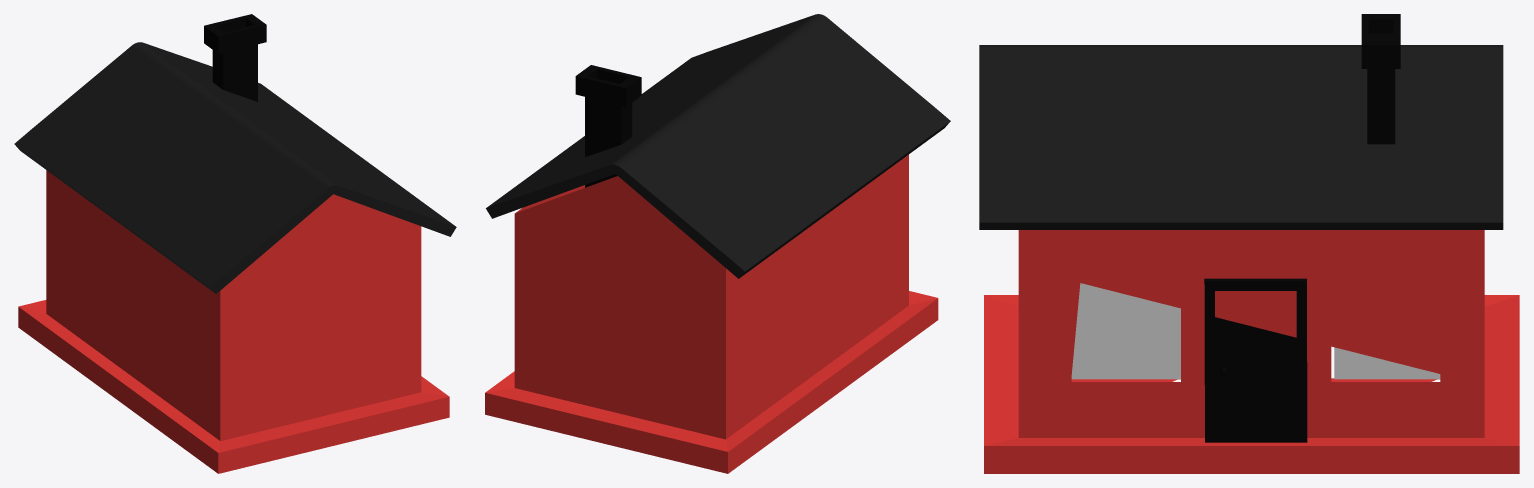
The model's file is Blender_1.fbx.
The picture shows the model from 3 angles, left to right: view 1: azimuth 30°, elevation 25°; view 2: azimuth 150°, elevation 25°; view 3: azimuth 270°, elevation 25°; orthographic projection. The views are drawn at different scales.
Visible parts, largest first — view 1: Cube, Roof, Chimney; view 2: Cube, Roof, Chimney; view 3: Cube, Roof, Door, Window.001, Chimney, Window.
Boxes of the visible parts, x1,y1,x2,y2 form: Cube: [18, 170, 449, 473]; Roof: [14, 42, 456, 293]; Chimney: [204, 14, 266, 101]; Cube: [485, 154, 938, 473]; Roof: [486, 14, 950, 278]; Chimney: [575, 65, 641, 187]; Cube: [984, 230, 1519, 473]; Roof: [979, 45, 1503, 229]; Door: [1204, 278, 1307, 442]; Window.001: [1071, 283, 1180, 379]; Chimney: [1361, 14, 1400, 144]; Window: [1334, 347, 1440, 379].
Bounding box in the file's own units: 491 × 570 × 696.
